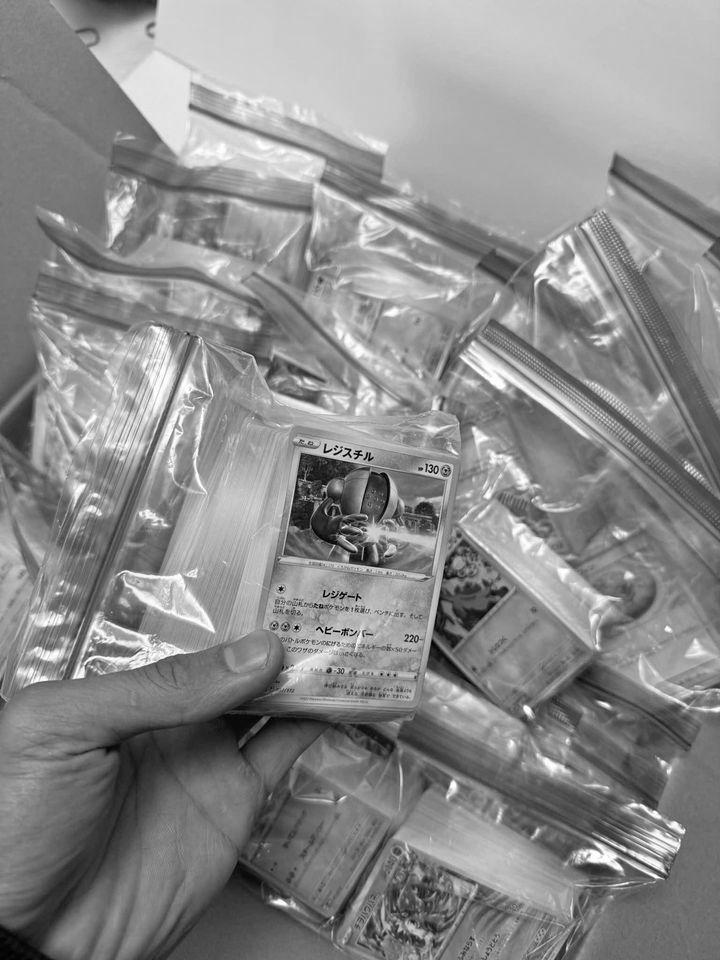card: (249, 424, 462, 708)
